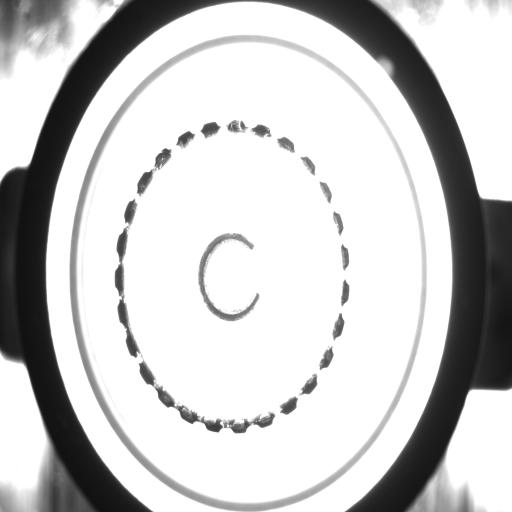gear: (110, 113, 356, 438)
